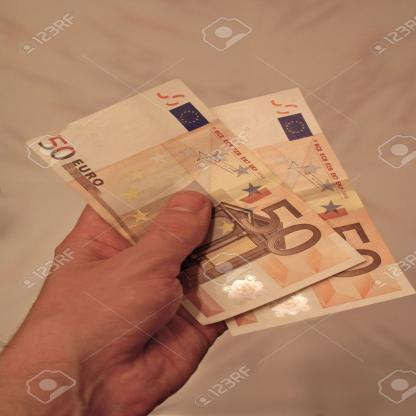billete: (23, 76, 368, 325), (204, 86, 416, 336)
